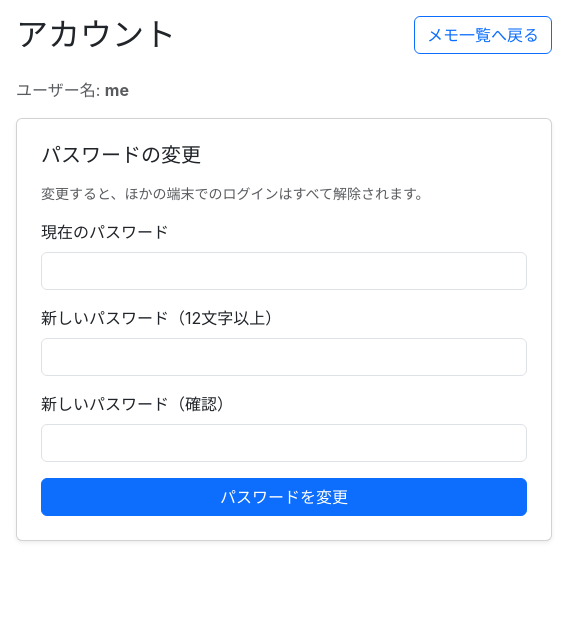
Scenario: AccountPage › 変更に成功したら完了を表示し、入力欄を空に戻す
Type "old-password-1234" into the password field labelled "現在のパスワード" at [284, 271], box [41,252,527,290]
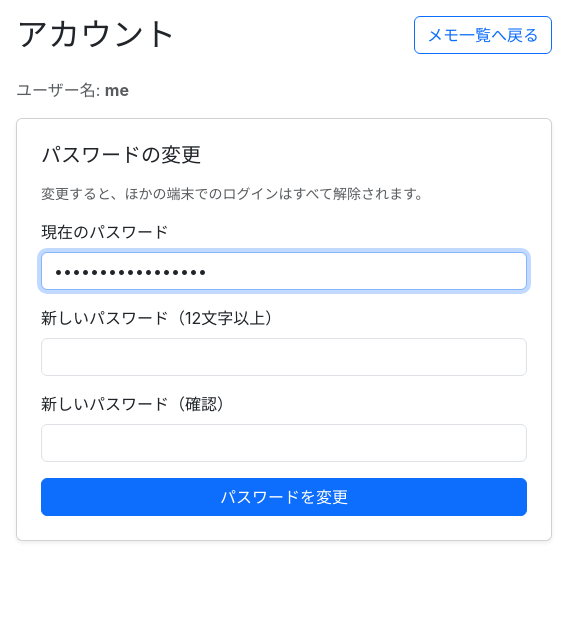
Type "new-password-5678" into the password field labelled "新しいパスワード（12文字以上）" at [284, 357], box [41,338,527,376]
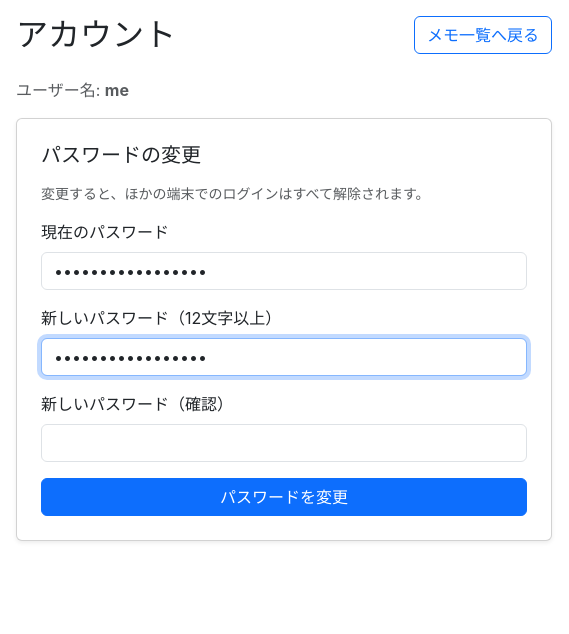
Type "new-password-5678" into the password field labelled "新しいパスワード（確認）" at [284, 443], box [41,424,527,462]
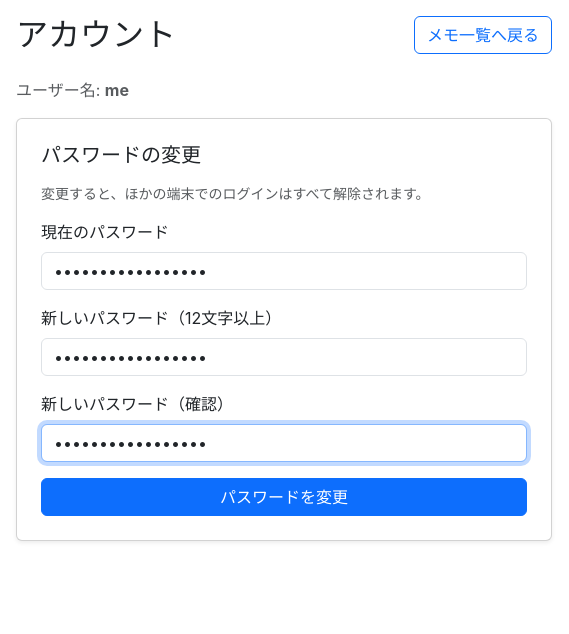
Click the button "パスワードを変更" at [284, 497], box [41,478,527,516]
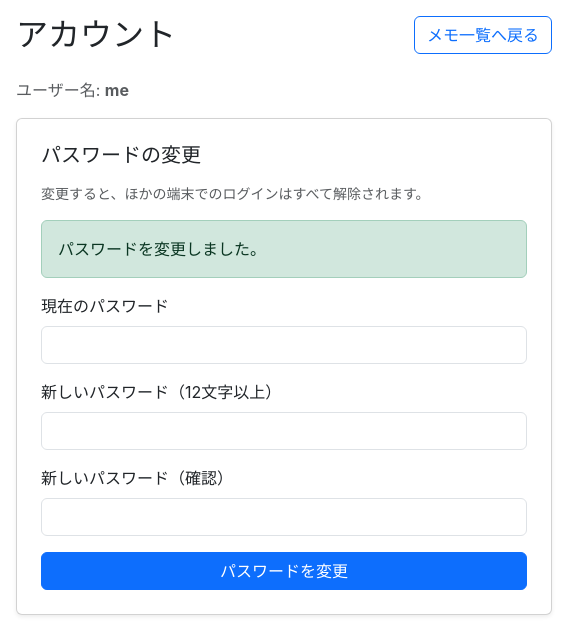
Now the text "パスワードを変更しました。" is shown, box [41,220,527,278]
Now the password field labelled "現在のパスワード" is empty, box [41,326,527,364]
